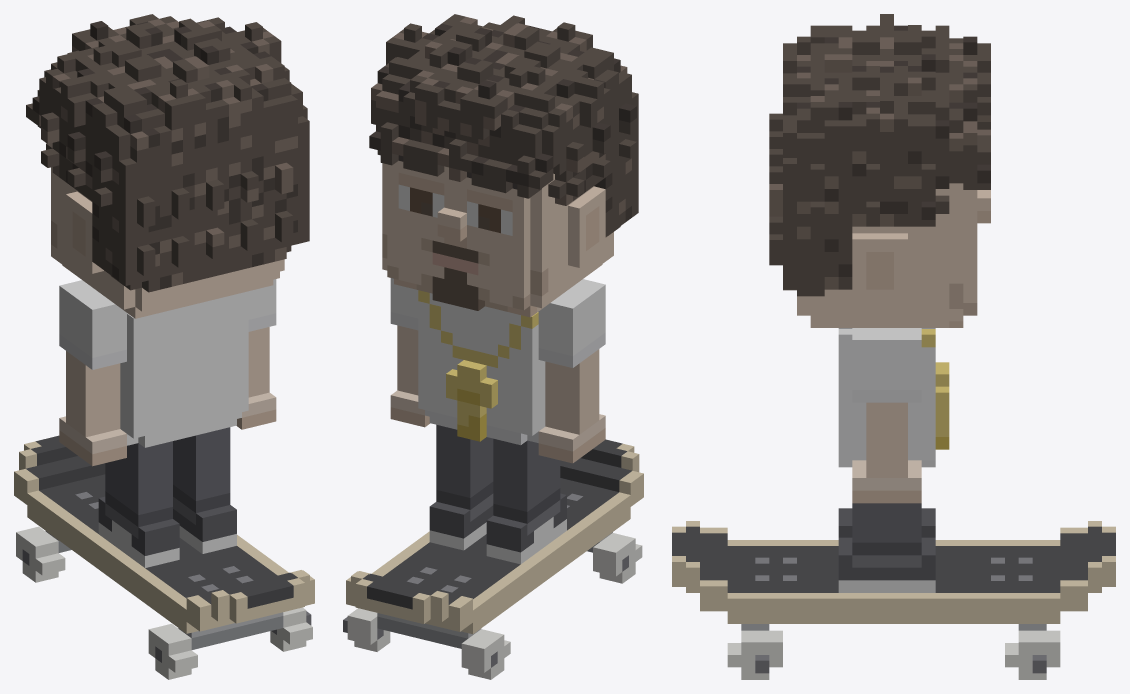
File: GregginiRicciolini.glb
3 renders of one model, left to right at view 1: azimuth 30°, elevation 25°; view 2: azimuth 150°, elevation 25°; view 3: azimuth 270°, elevation 25°, orthographic. The views are drawn at different scales.
Visible parts, largest first — view 1: geometry_0; view 2: geometry_0; view 3: geometry_0.
Part boxes in pixels (x1=…): geometry_0: x1=14, y1=14, x2=314, y2=679; geometry_0: x1=343, y1=14, x2=643, y2=679; geometry_0: x1=672, y1=14, x2=1115, y2=679.
Size of the model in its own units: 0.375 by 0.9792 by 0.6667.
